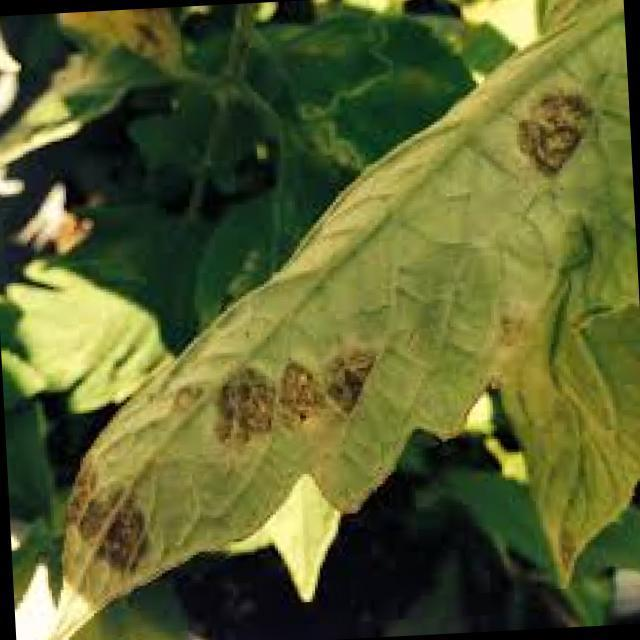Mosaic Virus: (200, 297, 394, 441), (54, 438, 167, 586), (480, 84, 606, 202)
